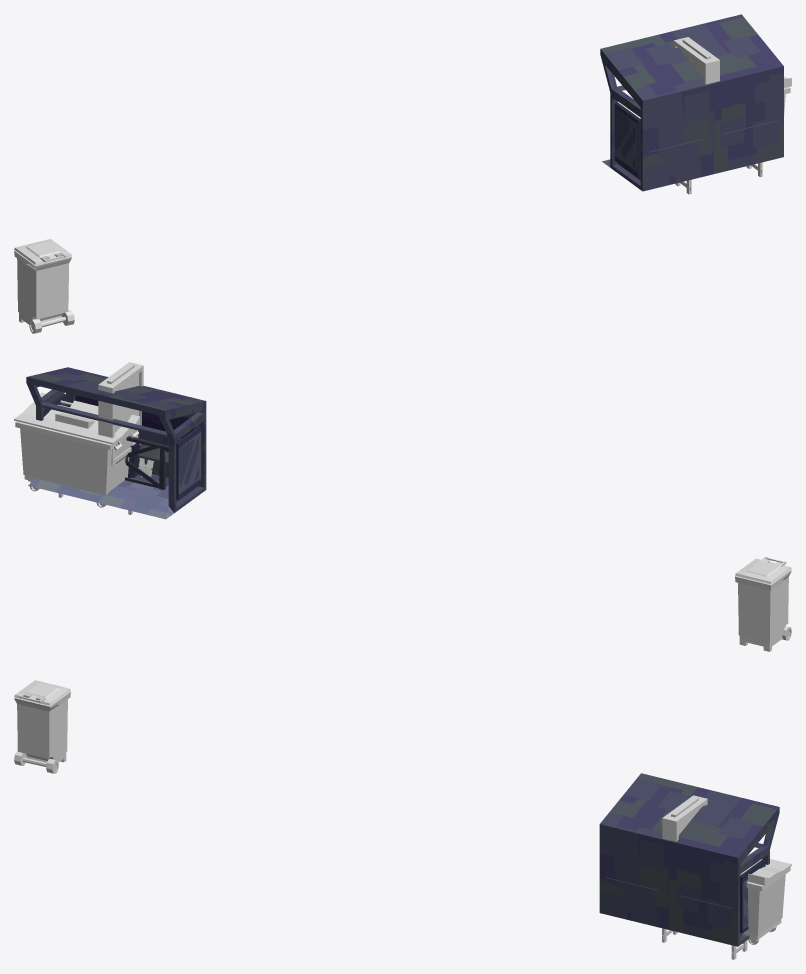
The model's file is poteau 1.fbx.
3 views of the same model, one above another, from view 1: azimuth 30°, elevation 25°; view 2: azimuth 150°, elevation 25°; view 3: azimuth 330°, elevation 25° (orthographic). The views are drawn at different scales.
Parts seen in each view (by area): view 1: Cube.002, Cube.013, Cube.006; view 2: Cube.002, Cube.008, Cube.013, Cube.006, Cube.001; view 3: Cube.002, Cube.013, Cube.008, Cube.006.
Part boxes in pixels (<box>): Cube.002: <box>600,14,783,191</box>; Cube.013: <box>14,239,71,324</box>; Cube.006: <box>673,37,719,84</box>; Cube.002: <box>26,367,206,519</box>; Cube.008: <box>14,392,140,495</box>; Cube.013: <box>735,556,791,651</box>; Cube.006: <box>98,362,143,465</box>; Cube.001: <box>125,436,168,489</box>; Cube.002: <box>599,773,779,946</box>; Cube.013: <box>14,680,70,762</box>; Cube.008: <box>740,853,791,940</box>; Cube.006: <box>662,795,707,841</box>.
Size of the model in its own units: 1699 by 293 by 164.
